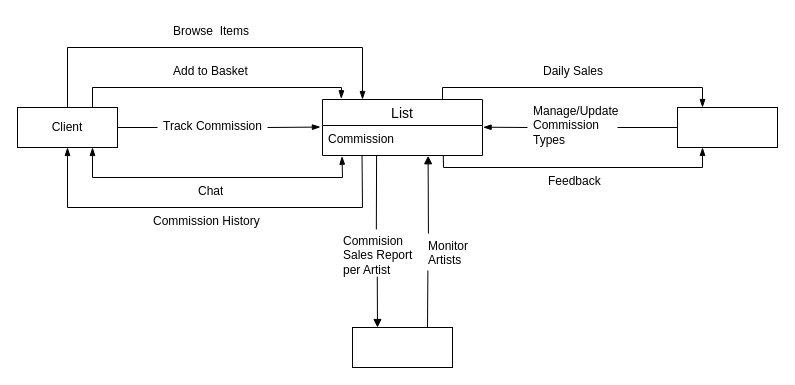
This 795x385 diagram has some shape labels left out. Here are the shapes that lost their labels. From the top down, the centre of each, then its label:
At (x=727, y=127): "Artist".
At (x=402, y=347): "Admin".
